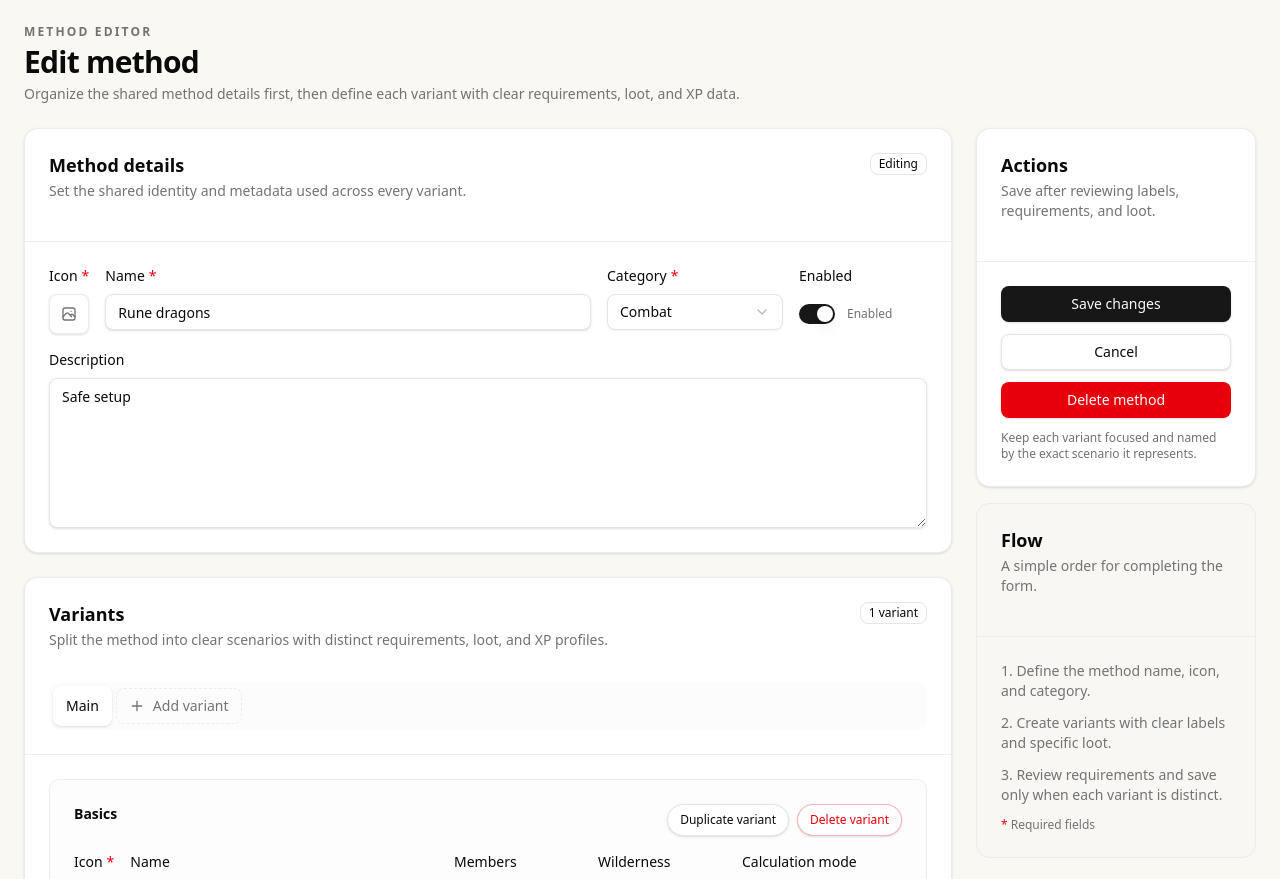
Test: critical flow: create/edit form validations › validates required fields in edit mode
The width and height of the screenshot is (1280, 879).
Clear the field showing "Rune dragons": (348, 312) [105, 294, 591, 330]
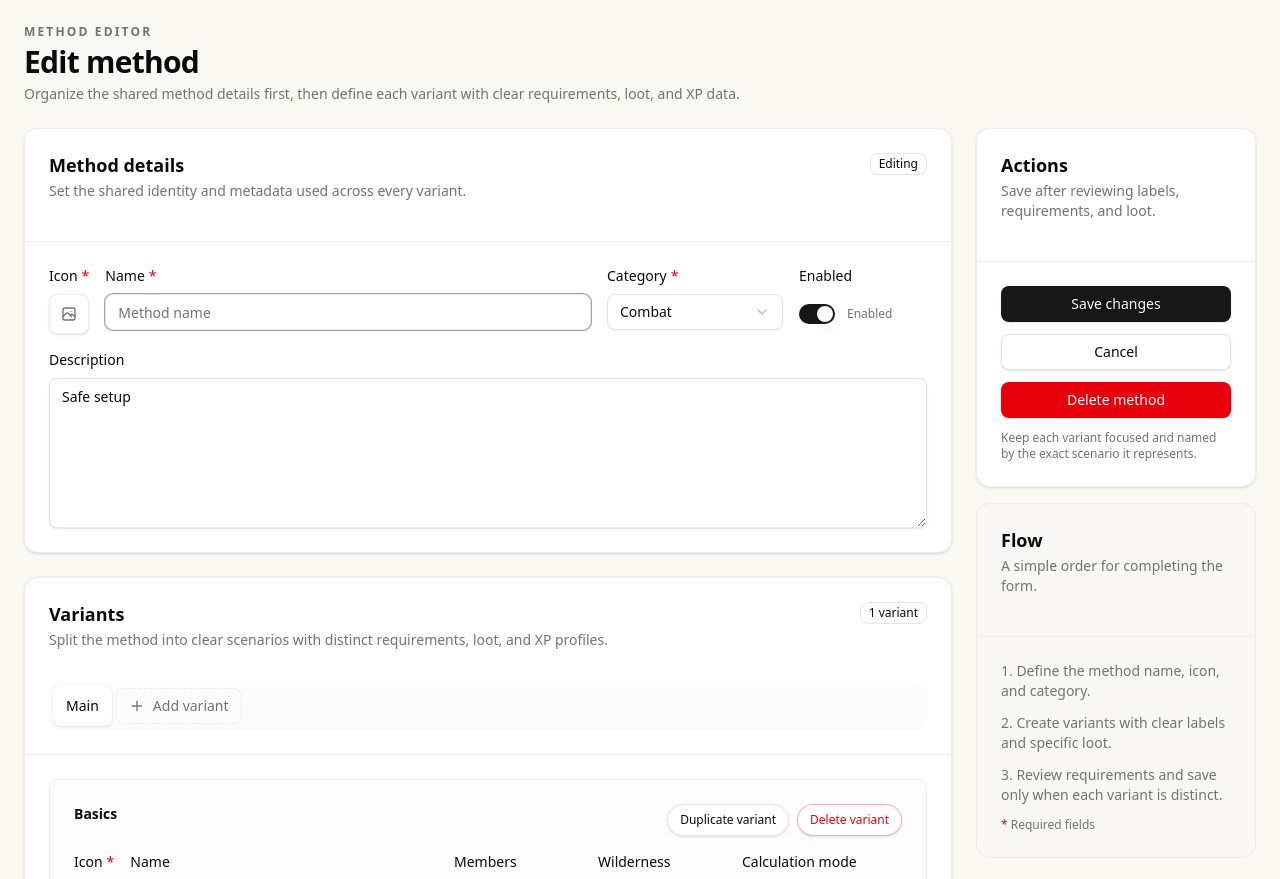
Click the button "Save changes": (1116, 304) [1001, 286, 1231, 322]
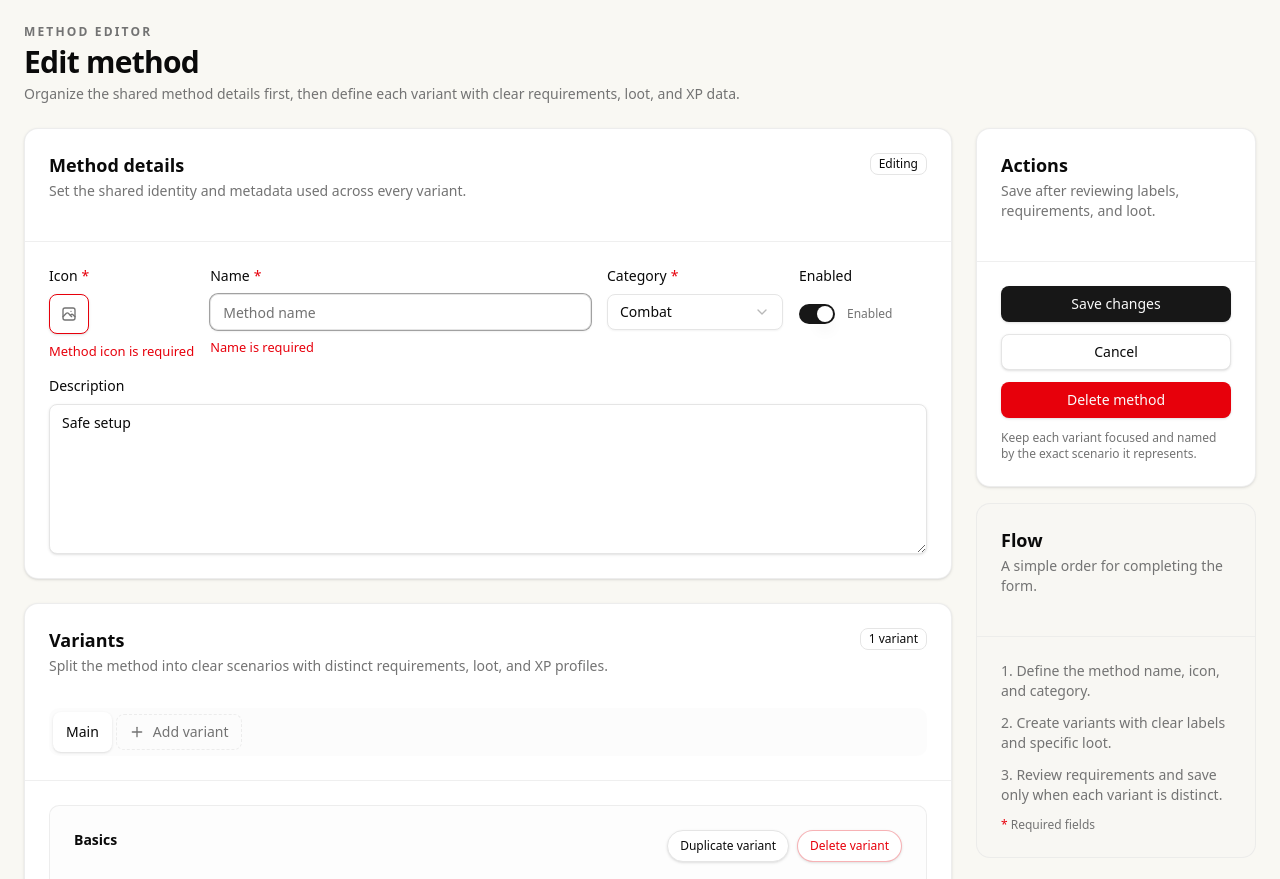
Result: the text "Name is required" is shown at [210, 338, 314, 356]
